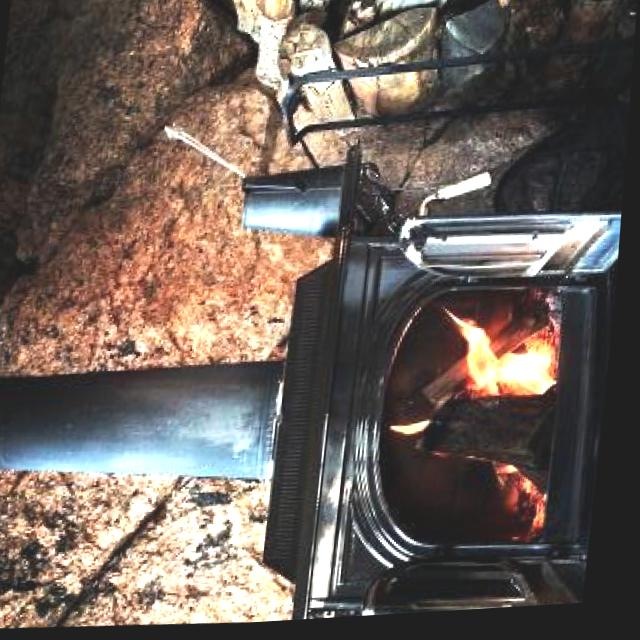helmet: (399, 300, 568, 414), (480, 457, 566, 544)
